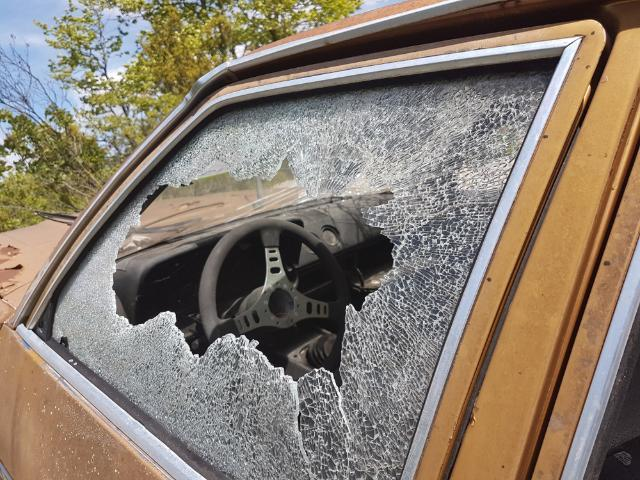glass shatter: (52, 61, 559, 480)
